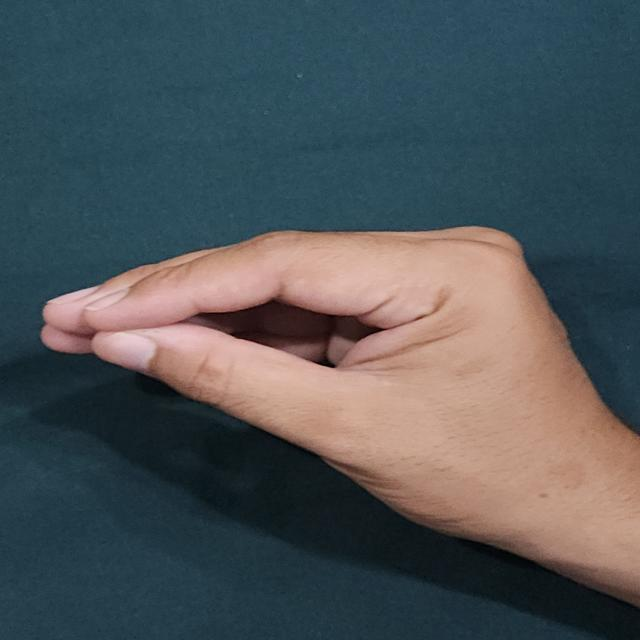ج: (27, 212, 640, 566)
